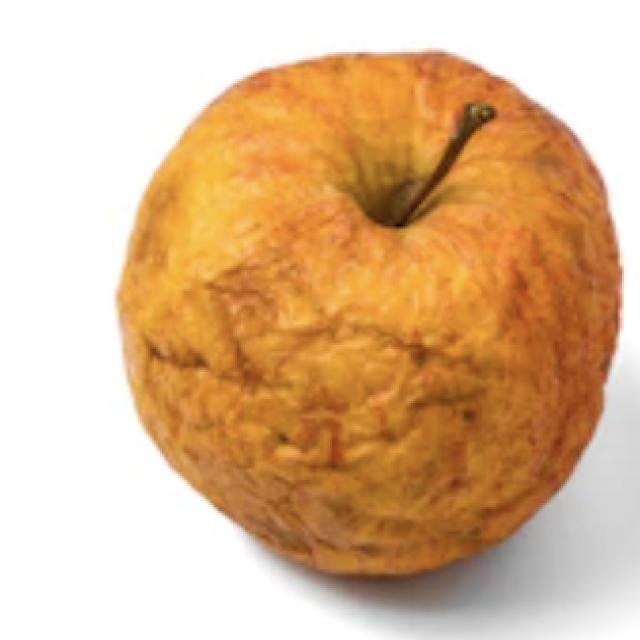Rotten: (110, 43, 623, 575)
